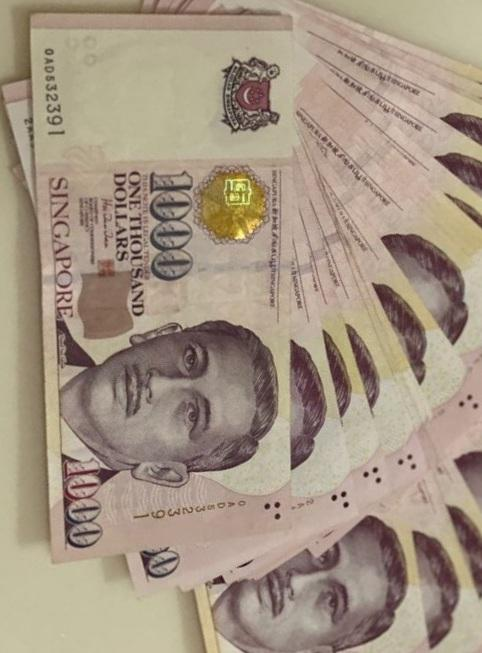1000SingaporeDollar: (43, 18, 283, 548)
